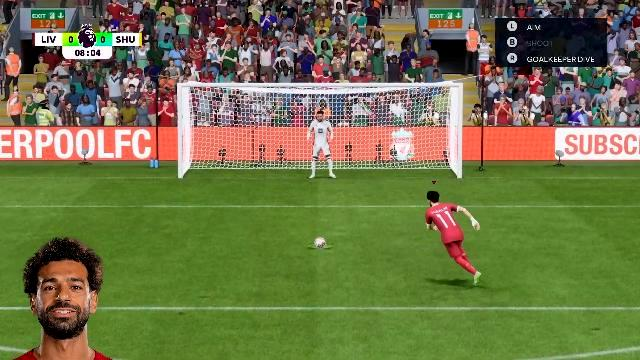bottom-left: (182, 136, 278, 180)
bottom-right: (366, 136, 456, 178)
center-down: (279, 136, 365, 178)
center-up: (279, 88, 365, 134)
circle: (309, 244, 331, 248)
football: (314, 237, 326, 247)
goalkeeper: (304, 111, 340, 181)
player: (418, 188, 487, 290)
top-left: (182, 89, 278, 135)
top-right: (366, 88, 458, 134)
